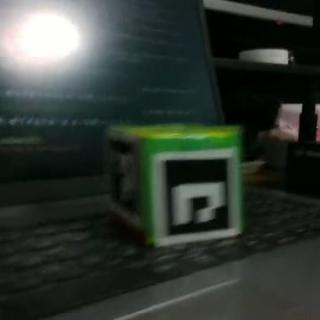armor: (153, 148, 240, 244)
robot: (102, 122, 245, 248)
